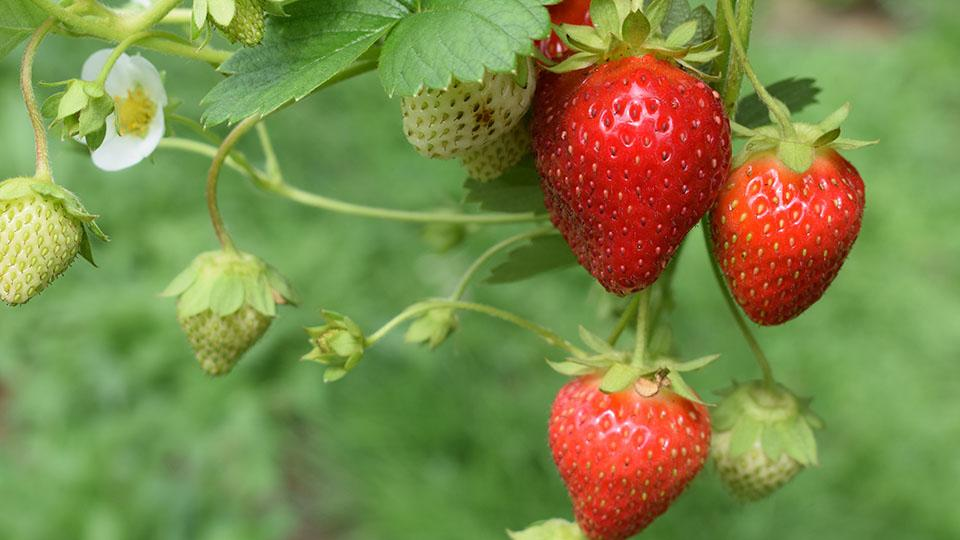strawberry: (525, 7, 735, 298), (532, 320, 723, 540), (703, 100, 874, 336)
